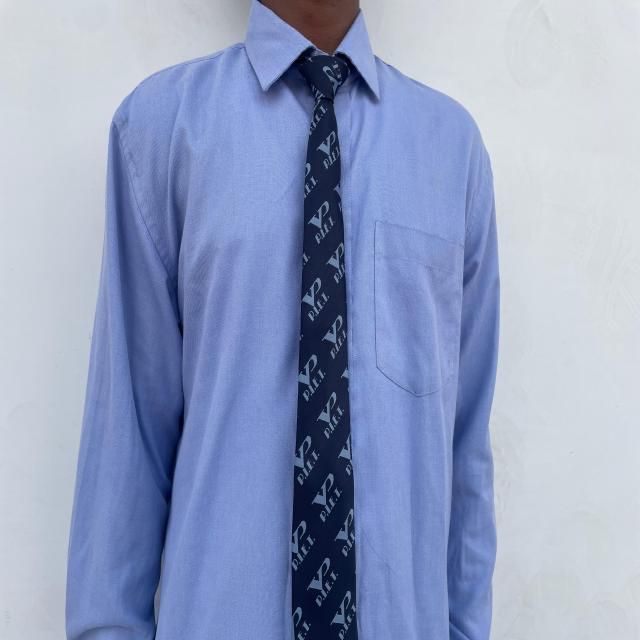Tie: (289, 49, 358, 638)
uniform: (64, 1, 500, 638)
